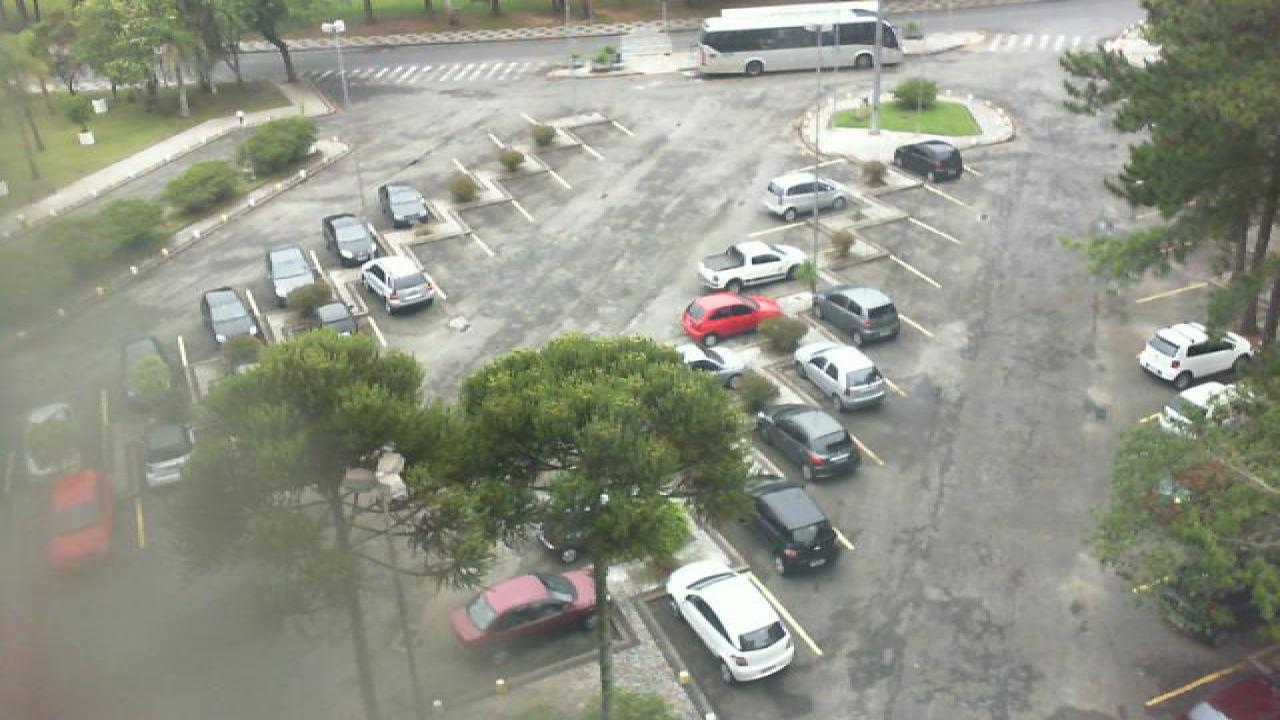Car: (662, 557, 798, 684), (448, 568, 606, 654), (740, 480, 840, 578), (752, 402, 860, 481), (1134, 322, 1256, 388), (794, 343, 890, 412), (46, 467, 112, 567), (694, 240, 810, 292), (812, 284, 904, 348), (678, 290, 782, 346), (358, 253, 440, 315), (1154, 382, 1242, 437), (20, 403, 80, 478), (200, 287, 268, 350), (764, 174, 848, 223), (136, 423, 200, 487), (888, 140, 968, 185), (320, 214, 380, 269), (674, 342, 748, 386), (262, 243, 318, 301), (376, 183, 428, 232), (304, 301, 360, 338)
